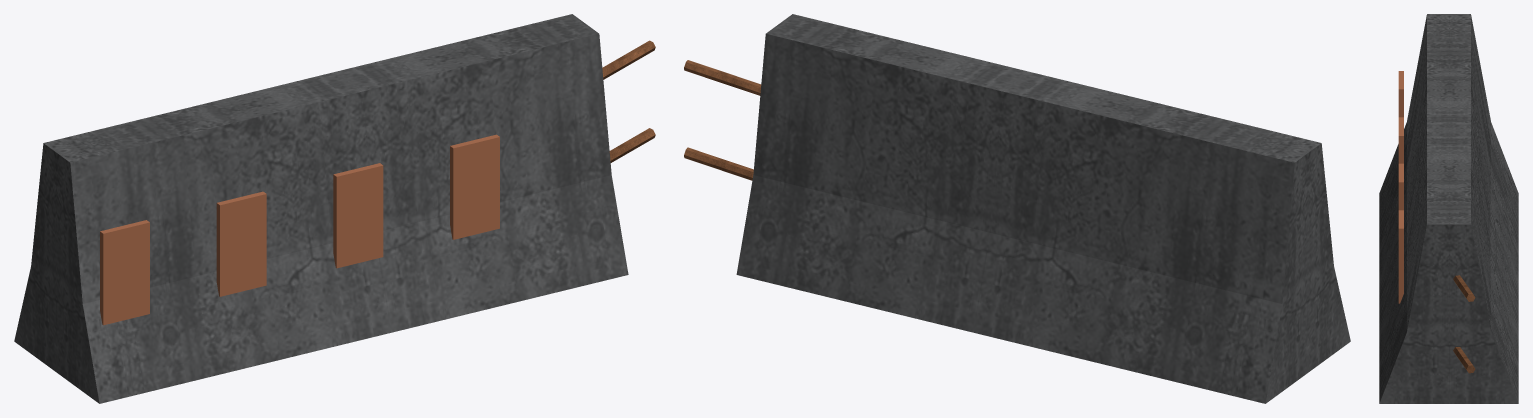
File: outskirts-barrier.glb
The picture shows the model from 3 angles, left to right: view 1: azimuth 30°, elevation 25°; view 2: azimuth 150°, elevation 25°; view 3: azimuth 270°, elevation 25°; orthographic projection. The views are drawn at different scales.
Visible parts, largest first — view 1: CBOK1_BrokenJersey_Concrete, CBOK1_BrokenJersey_BeaconRed, CBOK1_BrokenJersey_Rust; view 2: CBOK1_BrokenJersey_Concrete, CBOK1_BrokenJersey_Rust; view 3: CBOK1_BrokenJersey_Concrete, CBOK1_BrokenJersey_BeaconRed, CBOK1_BrokenJersey_Rust.
Part boxes in pixels (x1=…): CBOK1_BrokenJersey_Concrete: x1=14, y1=14, x2=628, y2=403; CBOK1_BrokenJersey_BeaconRed: x1=100, y1=134, x2=499, y2=325; CBOK1_BrokenJersey_Rust: x1=602, y1=40, x2=655, y2=162; CBOK1_BrokenJersey_Concrete: x1=736, y1=14, x2=1350, y2=403; CBOK1_BrokenJersey_Rust: x1=684, y1=60, x2=761, y2=180; CBOK1_BrokenJersey_Concrete: x1=1379, y1=14, x2=1518, y2=403; CBOK1_BrokenJersey_BeaconRed: x1=1398, y1=71, x2=1403, y2=303; CBOK1_BrokenJersey_Rust: x1=1453, y1=275, x2=1475, y2=373.
Bounding box in the file's own units: 3.14 × 1.08 × 0.76.
3 materials, 2 textured.
